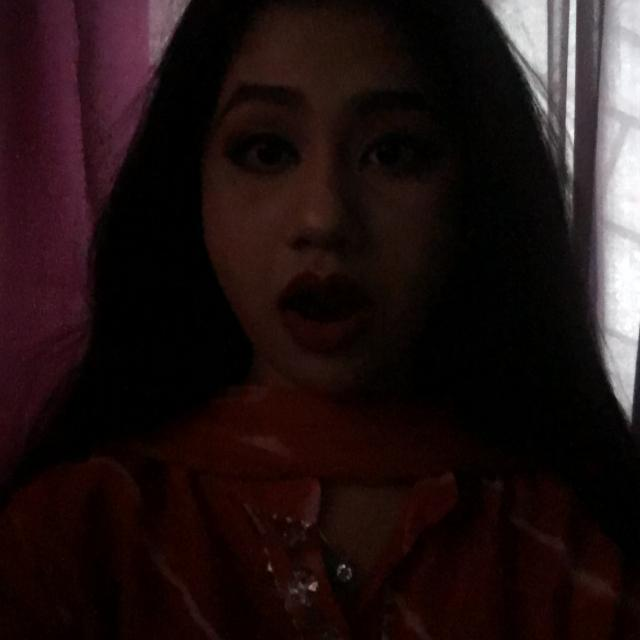Surprised: (78, 10, 565, 501)
